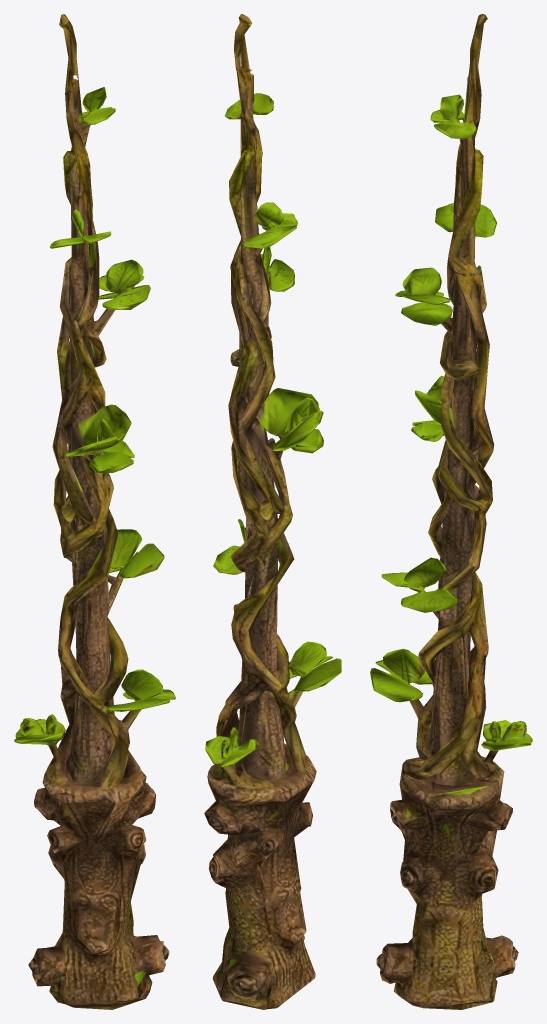
File: branch-whip.glb
3 renders of one model, left to right at view 1: azimuth 90°, elevation 25°; view 2: azimuth 150°, elevation 25°; view 3: azimuth 270°, elevation 25°, orthographic.
Parts seen in each view (by area): view 1: branch-whip; view 2: branch-whip; view 3: branch-whip.
Boxes of the visible parts, box(x1,y1,x2,y2) form: branch-whip: box(14, 14, 175, 1009); branch-whip: box(204, 14, 341, 1009); branch-whip: box(370, 14, 532, 1009).
Size of the model in its own units: 0.1331 by 1.1 by 0.1635.
Materials: 1 (1 with a texture image).
